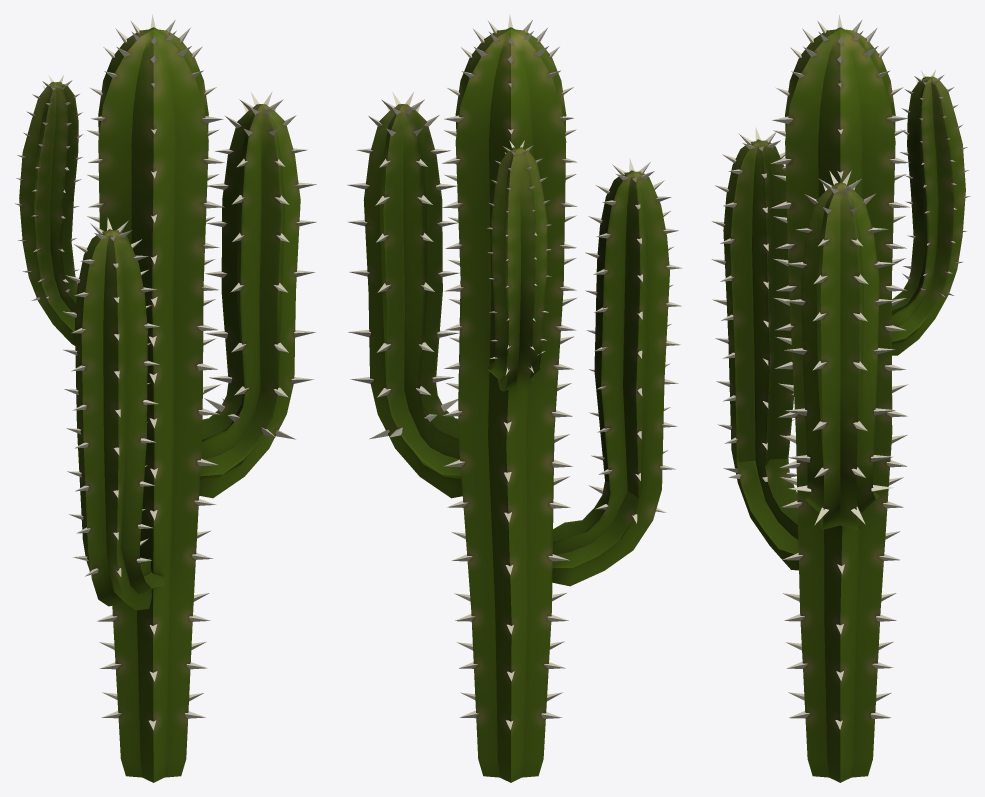
The model's file is sb_obj_nature012_Cactus01a.fbx.
3 renders of one model, left to right at view 1: azimuth 30°, elevation 25°; view 2: azimuth 150°, elevation 25°; view 3: azimuth 270°, elevation 25°, orthographic.
Visible parts, largest first — view 1: sb_obj_nature012_Cactus01a; view 2: sb_obj_nature012_Cactus01a; view 3: sb_obj_nature012_Cactus01a.
Part boxes in pixels (left/top/right/bottom): sb_obj_nature012_Cactus01a: left=15, top=14, right=316, bottom=782; sb_obj_nature012_Cactus01a: left=347, top=14, right=681, bottom=782; sb_obj_nature012_Cactus01a: left=711, top=15, right=970, bottom=782.
Bounding box in the file's own units: 0.7619 × 1.95 × 0.6174.
